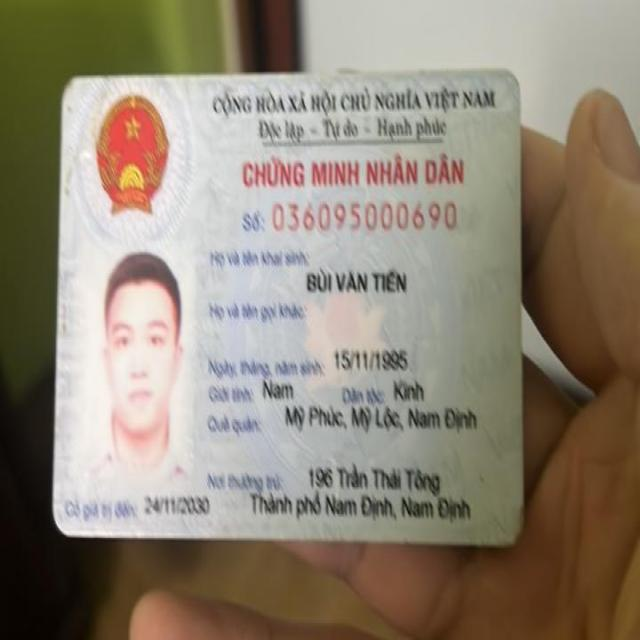bottom_left: (37, 508, 83, 552)
bottom_right: (490, 510, 540, 570)
image_person: (74, 250, 200, 500)
top_left: (50, 60, 83, 110)
top_right: (486, 56, 534, 109)
